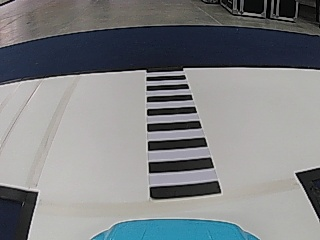CrossWalk: (143, 70, 221, 195)
